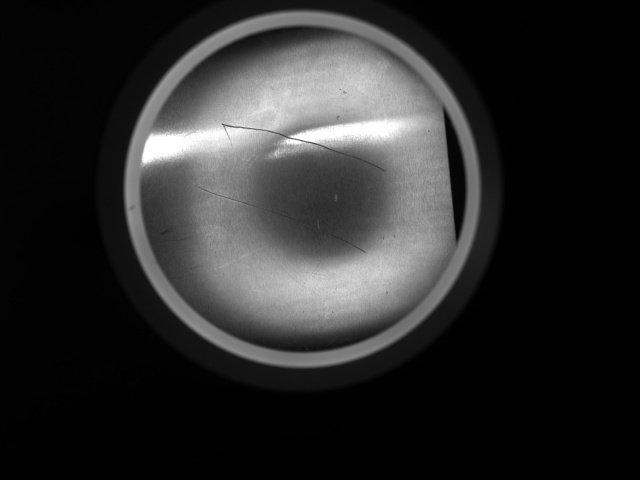ca_shang: (191, 181, 370, 254), (219, 119, 392, 174)
